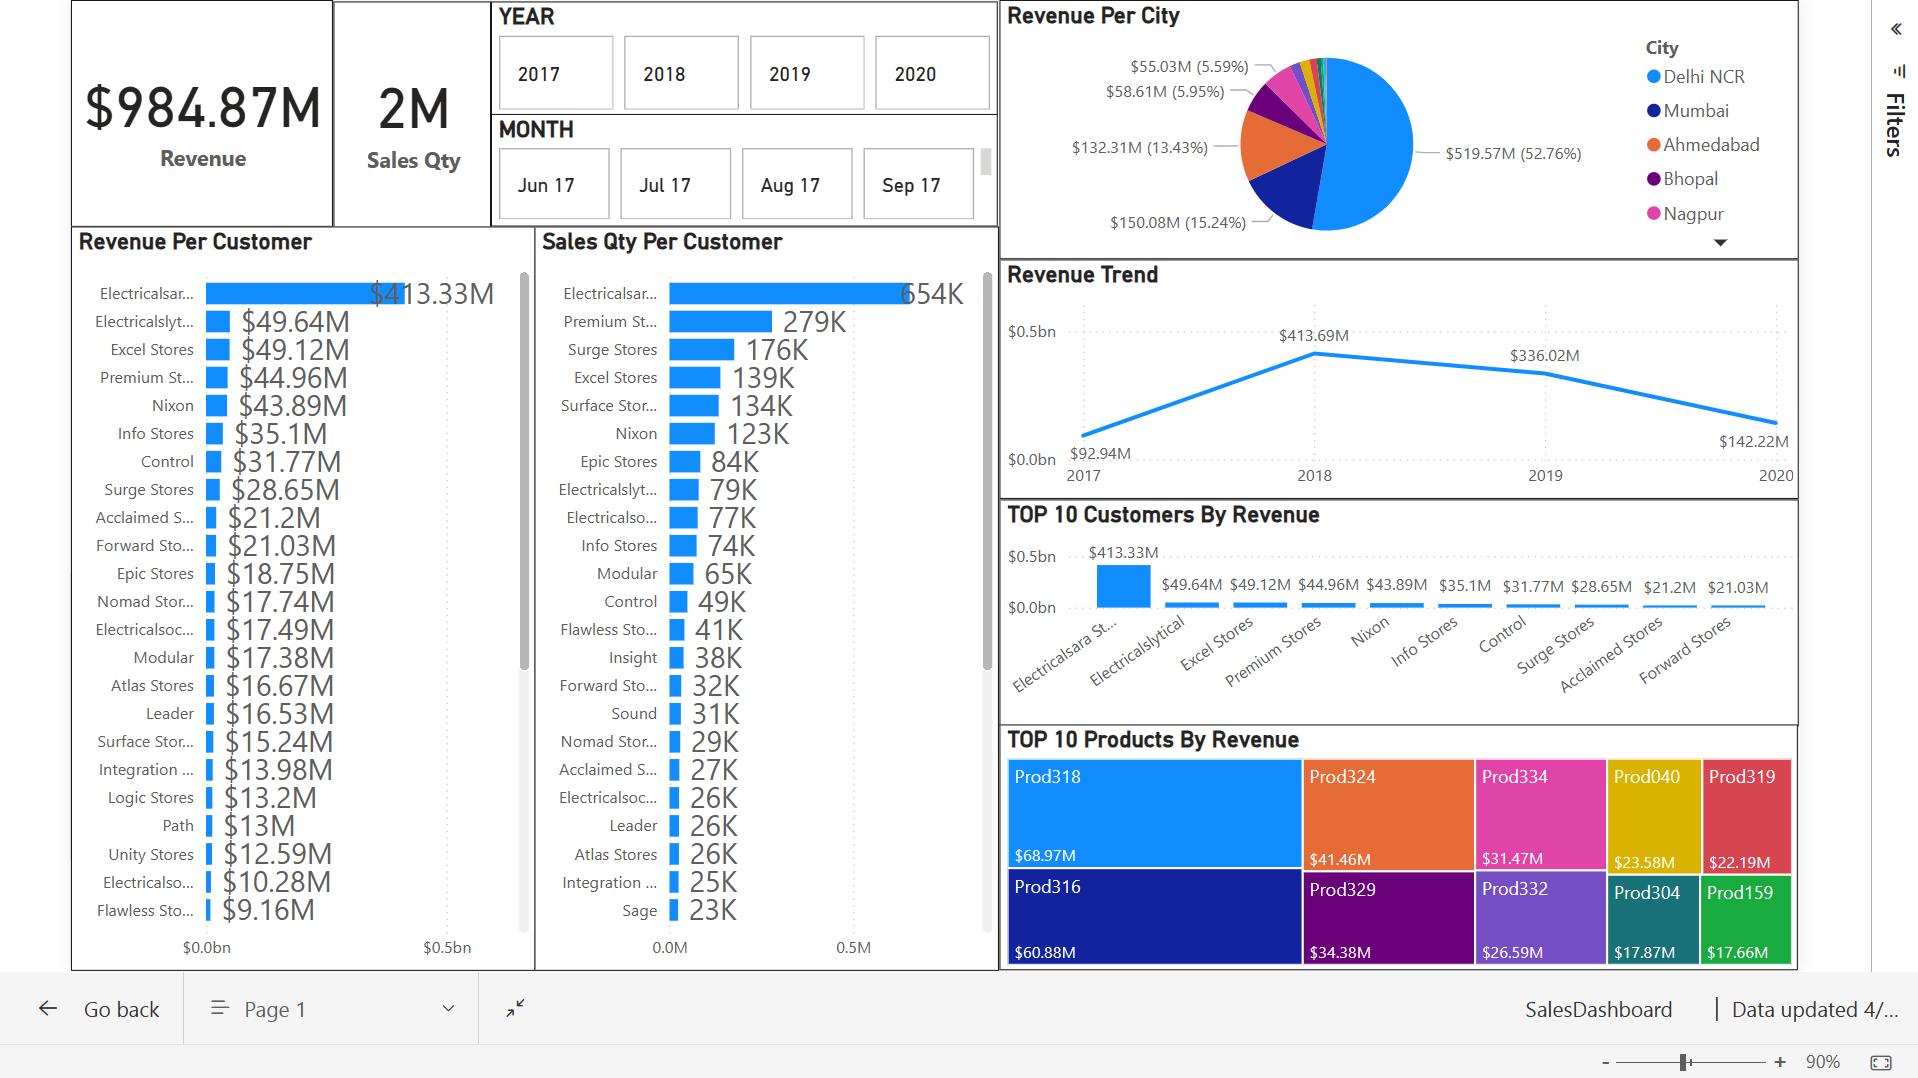

Layout of this report page (visuals, bound fields, positions):
{"tool":"powerbi","page":{"name":"Page 1","canvas":[1280,720],"ordinal":0},"visuals":[{"type":"card","fields":{"Values":["BaseMeasures.Revenue"]},"box":[0,0,193.8,168.1],"z":0},{"type":"card","fields":{"Values":["BaseMeasures.Sales Qty"]},"box":[194.4,1.5,116.9,168.1],"z":1000},{"type":"barChart","title":"Revenue Per Customer","fields":{"Y":["BaseMeasures.Revenue"],"Category":["sales customers.custmer_name"]},"box":[0,168.1,343.7,551.2],"z":2000},{"type":"barChart","title":"Sales Qty Per Customer","fields":{"Category":["sales customers.custmer_name"],"Y":["BaseMeasures.Sales Qty"]},"box":[343.7,168.1,343.7,551.2],"z":3000},{"type":"lineChart","title":"Revenue Trend","fields":{"Y":["BaseMeasures.Revenue"],"Category":["sales date.date.Variation.Date Hierarchy.Year","sales date.date.Variation.Date Hierarchy.Month","sales date.date.Variation.Date Hierarchy.Day"]},"box":[687.4,192.3,592.1,177.2],"z":4000},{"type":"advancedSlicerVisual","title":"YEAR","fields":{"Values":["sales date.year"]},"box":[311.3,1.5,375.6,84.8],"z":5000},{"type":"advancedSlicerVisual","title":"MONTH","fields":{"Values":["sales date.date.Variation.Date Hierarchy.Month"]},"box":[311.3,84.8,377.1,83.3],"z":6000},{"type":"pieChart","title":"Revenue Per City","fields":{"Y":["BaseMeasures.Revenue"],"Category":["sales markets.markets_name"]},"box":[687.4,0,592.1,192.3],"z":7000},{"type":"columnChart","title":"TOP 10 Customers By Revenue","fields":{"Category":["sales customers.custmer_name"],"Y":["BaseMeasures.Revenue"]},"box":[687.4,369.5,592.1,168.1],"z":8000},{"type":"hundredPercentStackedColumnChart","title":"TOP 10 Products By Revenue","fields":{"Category":["sales transactions.product_code"],"Y":["BaseMeasures.Revenue"]},"box":[688,537,591,182],"z":9000}]}

Visuals, with their boxes on the page's 1280x720 design canvas (x1, y1, x2, y2). These are canvas units, not pixel positions in the 1918x1078 screenshot, which may show the page scaled, cropped or inside an application window:
card - BaseMeasures.Revenue: pyautogui.locateOnScreen(0, 0, 194, 168)
card - BaseMeasures.Sales Qty: pyautogui.locateOnScreen(194, 2, 311, 170)
"Revenue Per Customer" barChart: pyautogui.locateOnScreen(0, 168, 344, 719)
"Sales Qty Per Customer" barChart: pyautogui.locateOnScreen(344, 168, 687, 719)
"Revenue Trend" lineChart: pyautogui.locateOnScreen(687, 192, 1280, 370)
"YEAR" advancedSlicerVisual: pyautogui.locateOnScreen(311, 2, 687, 86)
"MONTH" advancedSlicerVisual: pyautogui.locateOnScreen(311, 85, 688, 168)
"Revenue Per City" pieChart: pyautogui.locateOnScreen(687, 0, 1280, 192)
"TOP 10 Customers By Revenue" columnChart: pyautogui.locateOnScreen(687, 370, 1280, 538)
"TOP 10 Products By Revenue" hundredPercentStackedColumnChart: pyautogui.locateOnScreen(688, 537, 1279, 719)
